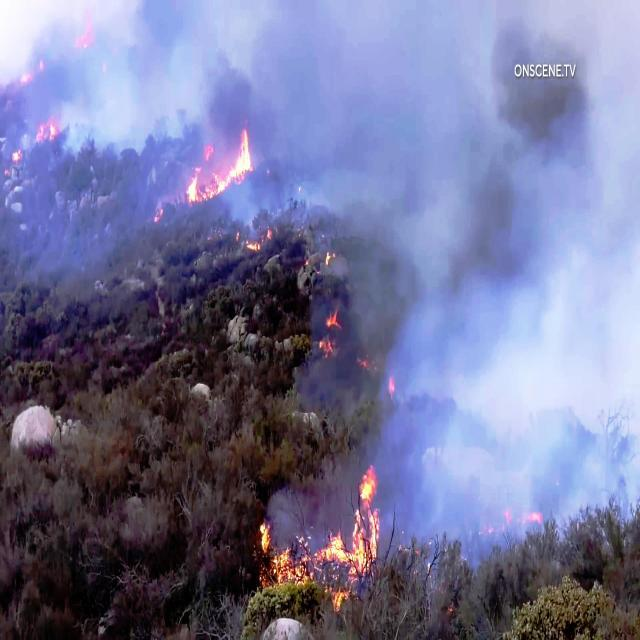Fire: (252, 457, 382, 613), (160, 122, 264, 214)
Smoke: (382, 0, 640, 549), (0, 0, 384, 121), (269, 125, 384, 462), (2, 129, 162, 276)
